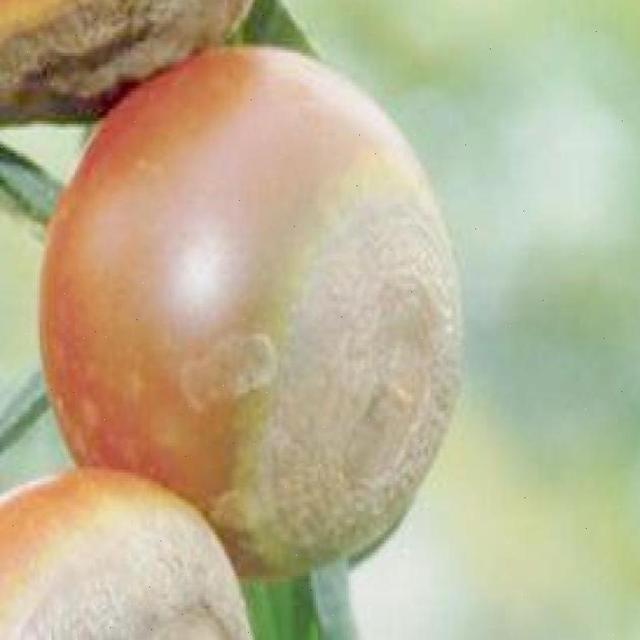Blossom End Rot Fruit: (92, 42, 242, 379)
